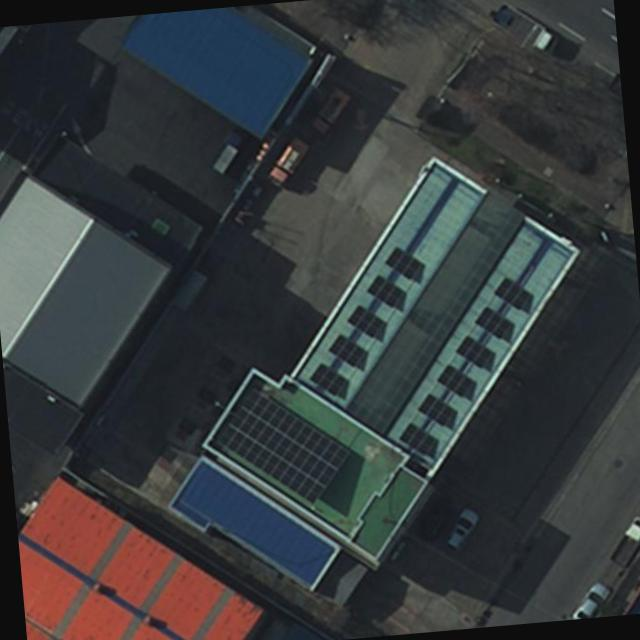solar: (205, 368, 361, 518), (380, 240, 428, 284), (412, 391, 460, 431), (394, 419, 439, 460), (430, 358, 476, 398), (345, 302, 388, 344), (364, 273, 406, 315), (472, 306, 518, 344), (326, 331, 370, 370), (452, 334, 497, 370), (307, 363, 351, 399), (491, 276, 534, 312)
